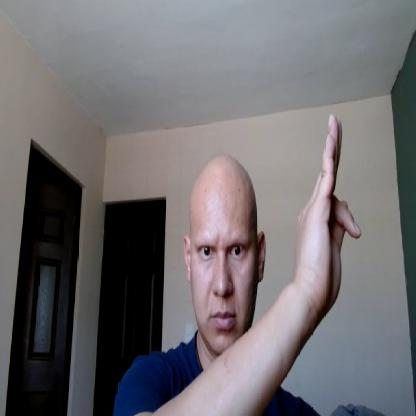F: (293, 110, 363, 313)
